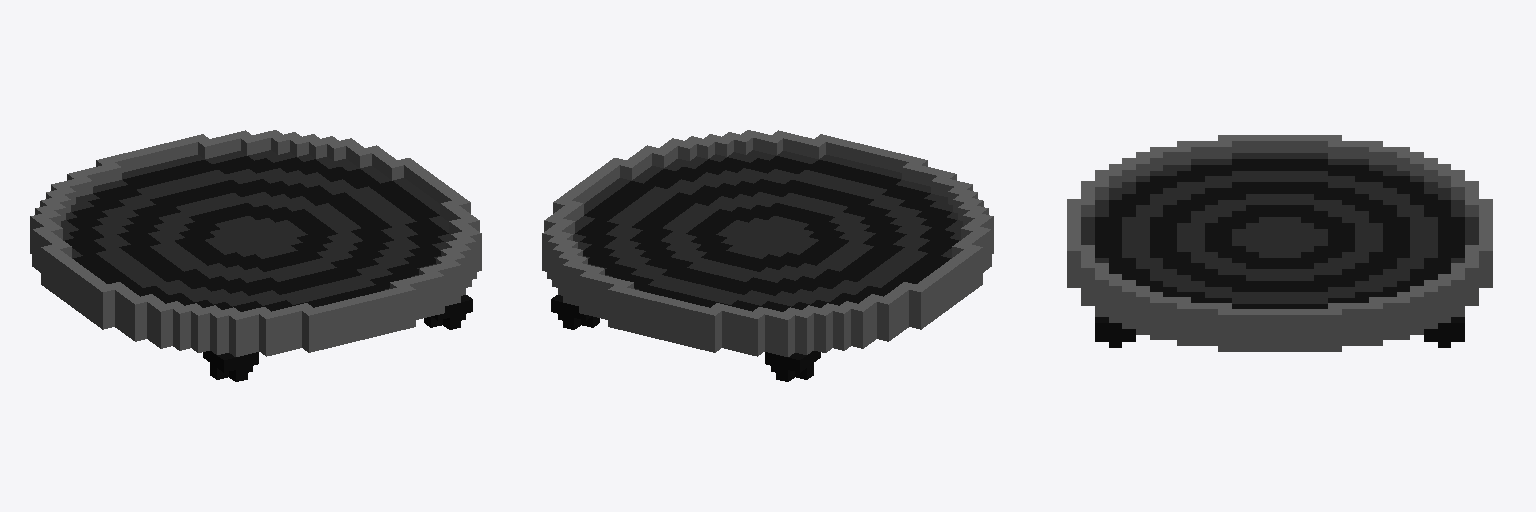
3 views of the same model, side by side, from view 1: azimuth 30°, elevation 25°; view 2: azimuth 150°, elevation 25°; view 3: azimuth 270°, elevation 25° (orthographic).
Parts seen in each view (by area): view 1: object 1; view 2: object 1; view 3: object 1.
Boxes of the visible parts, box(x1,y1,x2,y2) form: object 1: box(30, 130, 481, 381); object 1: box(542, 130, 993, 381); object 1: box(1067, 135, 1492, 351).
Size of the model in its own units: 3.1 by 0.5 by 3.1.
1 materials, 1 textured.